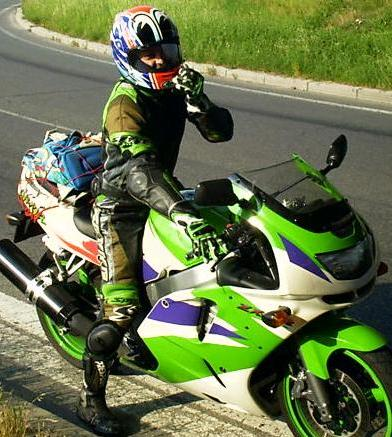helmet: (99, 10, 196, 88)
